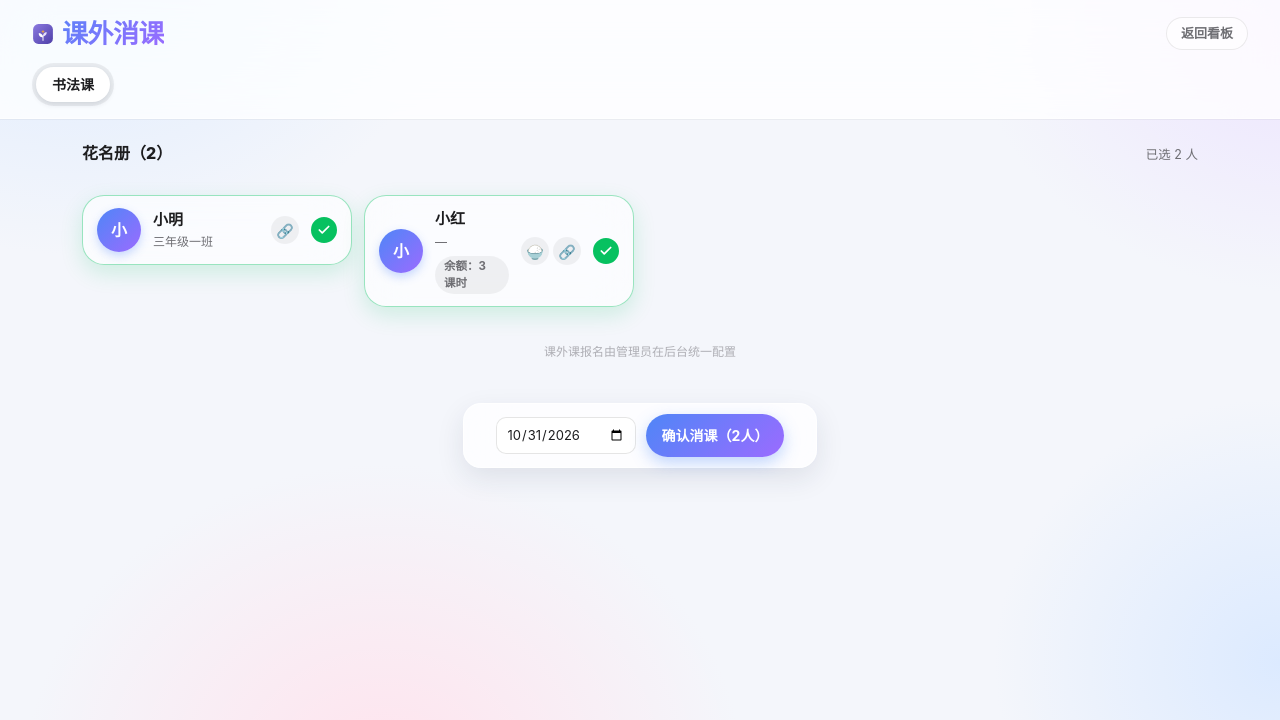
Scenario: CourseConsumptionPage › clicking the meal icon immediately records the meal and flips to the recorded state
Expected: the text "小明" is shown, 153,210 -> 183,229
Click the button named "小红用餐". click: [535, 251]
box: 521,237 -> 549,265
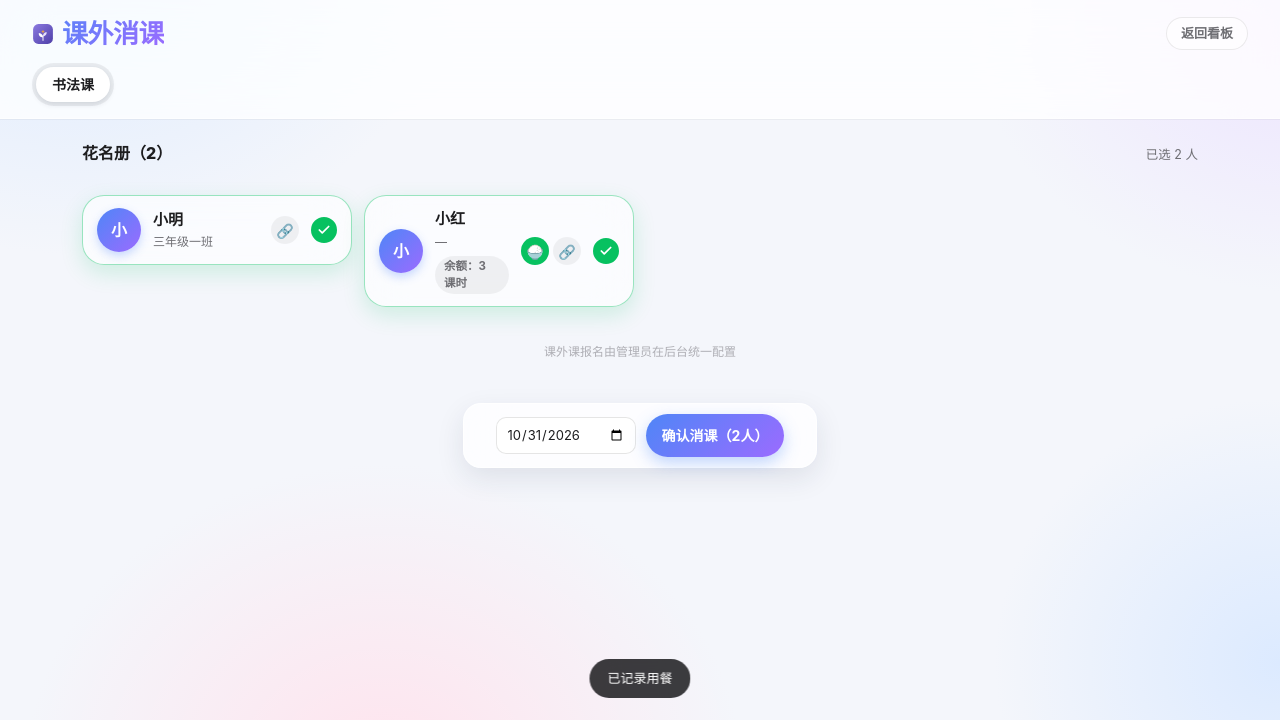
Now the button named "小红已用餐，点击取消" is shown, box 521,237 -> 549,265
Now the text "已记录用餐" is shown, box 590,658 -> 690,698
